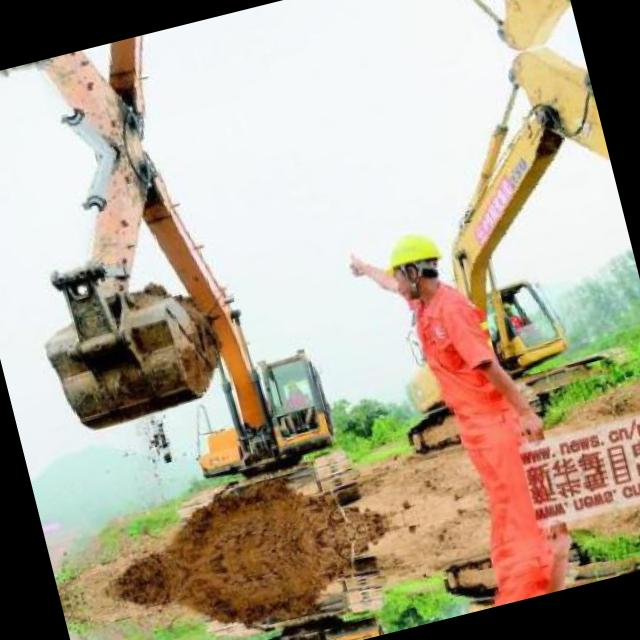helmet: (372, 216, 456, 310)
